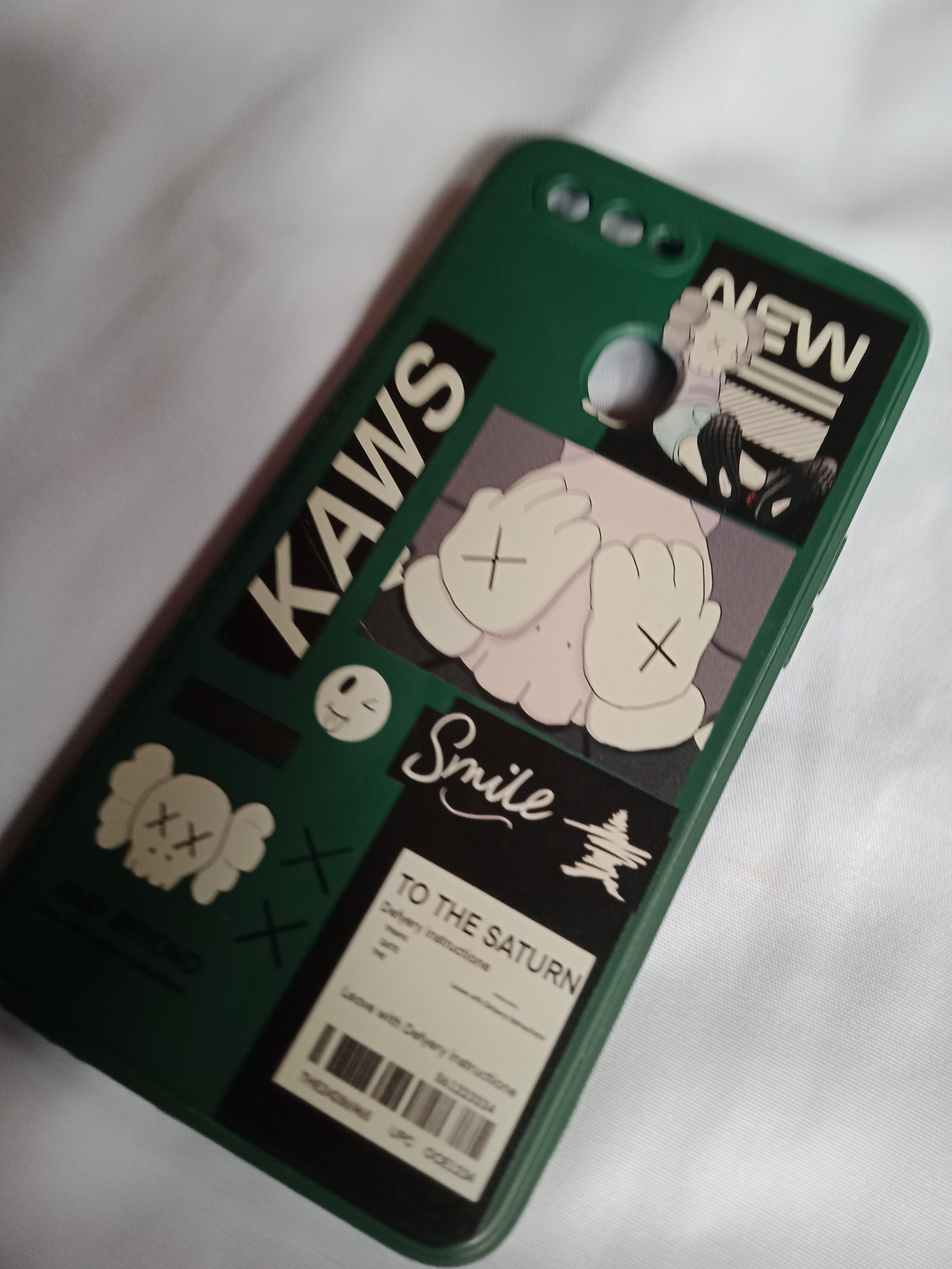plastic: (12, 52, 940, 1269)
